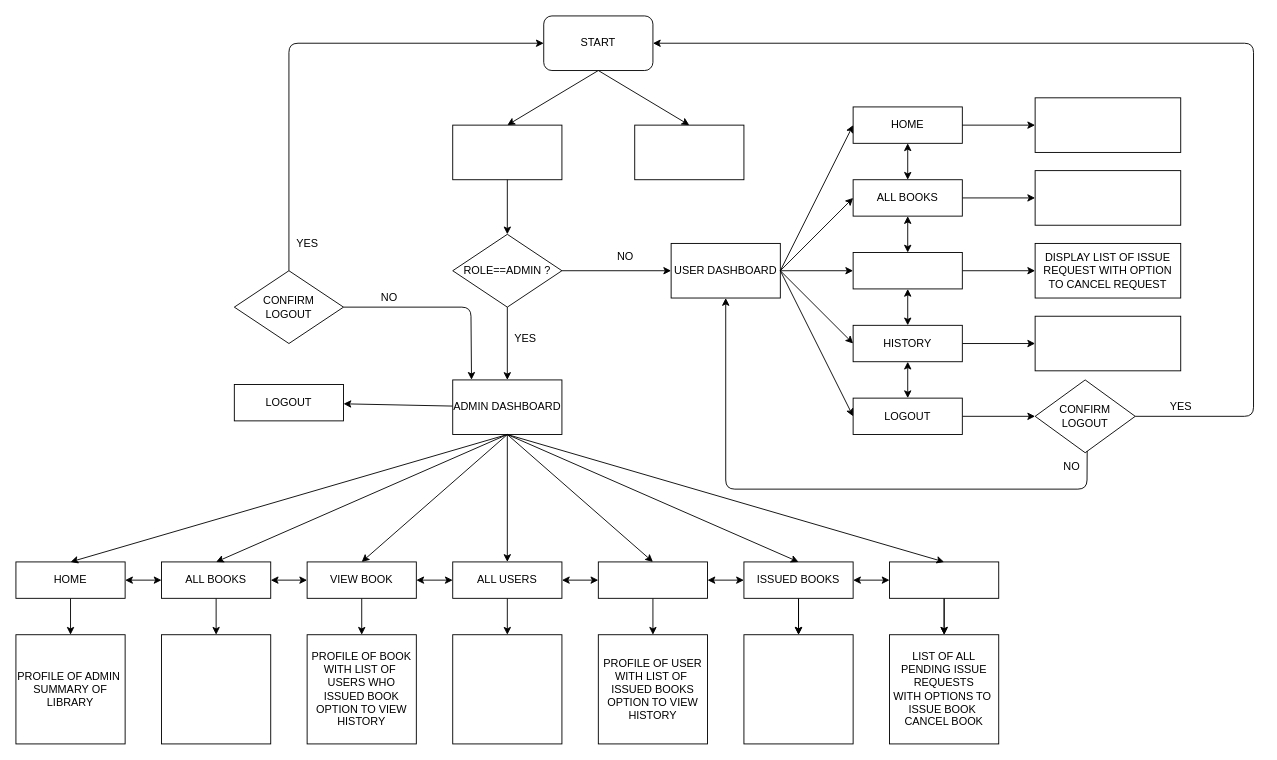
Some shapes in this 1277 by 760 pixel diagram are drawn without their labels. Here are the shapes that lost their labels. From the top down, the box of each, then its label:
(1034, 97, 1181, 152): PROFILE OF USER LIST OF BOOKS ISSUED BY THE USER
(452, 124, 562, 180): LOGIN FORM
(634, 124, 744, 180): LIST OF ALL AVAILABLE BOOKS
(1034, 170, 1181, 225): DISPLAY THE LIST OF ALL BOOKS IN LIBRARY WITH OPTION TO ISSUE BOOK
(852, 252, 962, 289): ISSUE REQUEST
(1034, 315, 1181, 371): DISPLAY THE HISTORY OF BOOKS ISSUED BY THE USER
(597, 561, 708, 598): VIEW USER
(889, 561, 999, 598): ISSUE REQUESTS
(161, 634, 271, 744): LIST OF ALL BOOKS WITH OPTIONS TO ADD BOOK UPDATE BOOK DELETE BOOK
(452, 634, 562, 744): LIST OF ALL USERS WITH OPTION TO ADD USER UPDATE USER DELETE USER
(743, 634, 853, 744): LIST OF ALL ISSUED BOOKS WITH OPTION TO RETURN BOOK VIEW UNAVILABLE BOOKS
